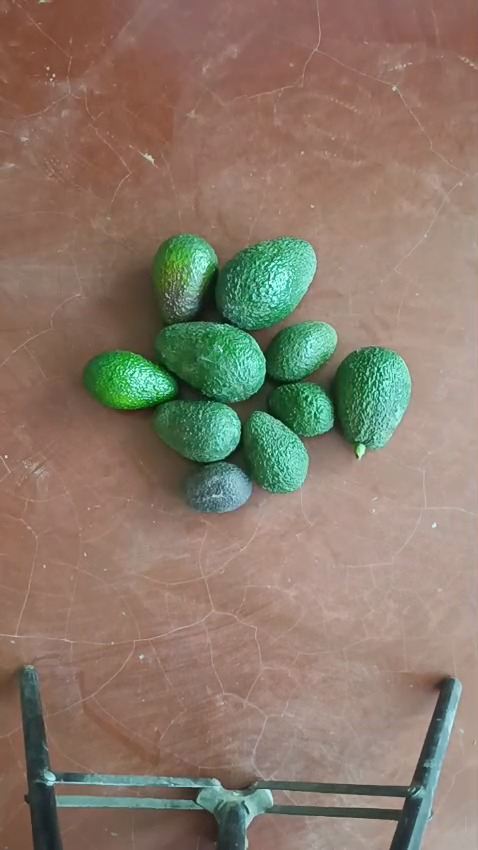Primera: (216, 237, 318, 331), (155, 321, 267, 402), (333, 345, 413, 454)
Segunda: (150, 233, 218, 325), (82, 350, 178, 411), (152, 398, 242, 462), (241, 410, 309, 493)
Tercera: (264, 321, 339, 383), (181, 460, 253, 513), (267, 381, 335, 437)
